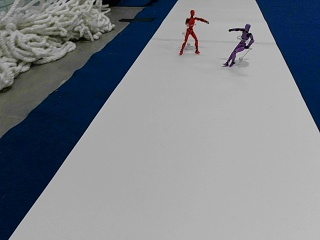pedestrian: (179, 10, 209, 55), (224, 22, 253, 66)
